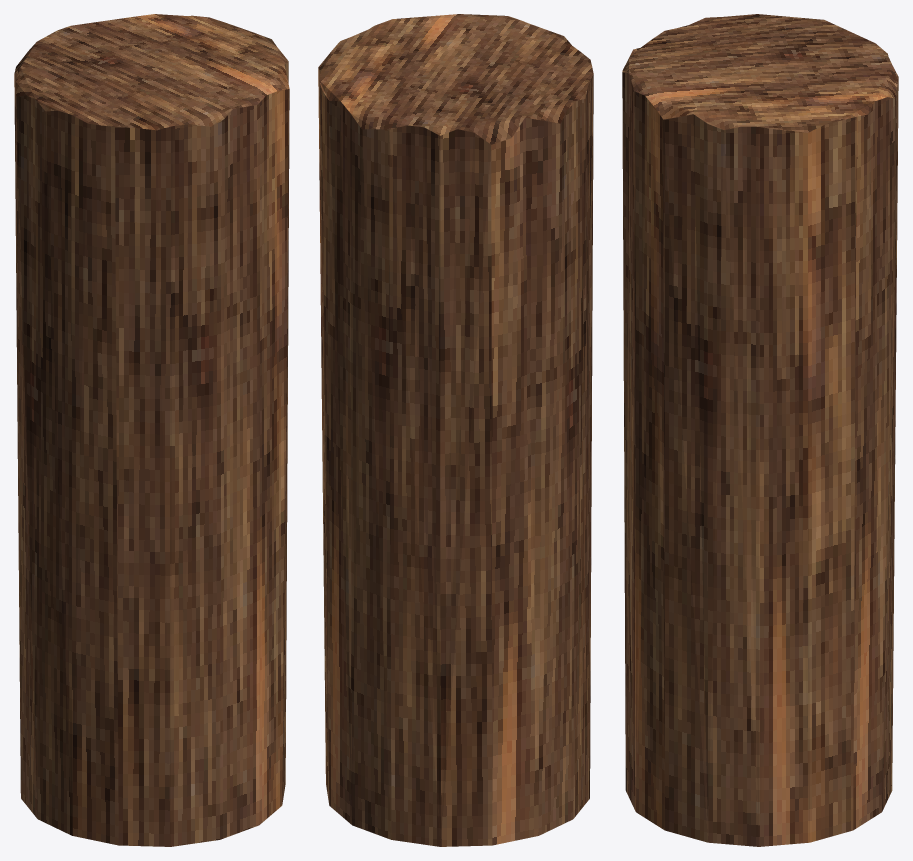
File: Tree_Stump.fbx
The picture shows the model from 3 angles, left to right: view 1: azimuth 30°, elevation 25°; view 2: azimuth 150°, elevation 25°; view 3: azimuth 270°, elevation 25°; orthographic projection.
Visible parts, largest first — view 1: Cylinder; view 2: Cylinder; view 3: Cylinder.
Boxes of the visible parts, x1,y1,x2,y2 form: Cylinder: (14,14,289,846); Cylinder: (318,14,593,846); Cylinder: (622,14,898,846).
Bounding box in the file's own units: 20.61 × 59.99 × 20.73.
